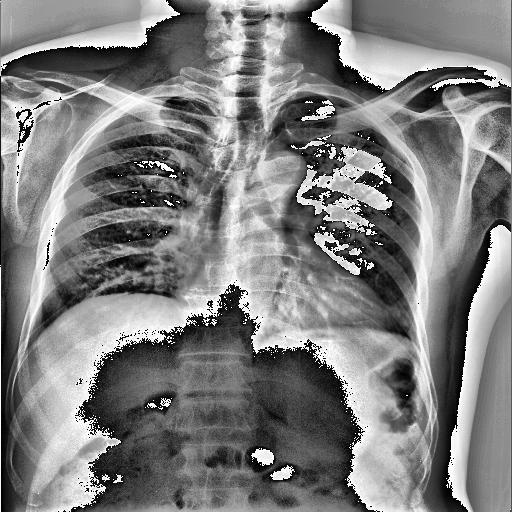0- Aortic enlargement: (254, 147, 308, 200), (262, 152, 310, 188)
3- Cardiomegaly: (172, 260, 380, 331), (174, 272, 394, 334), (182, 274, 386, 334)
